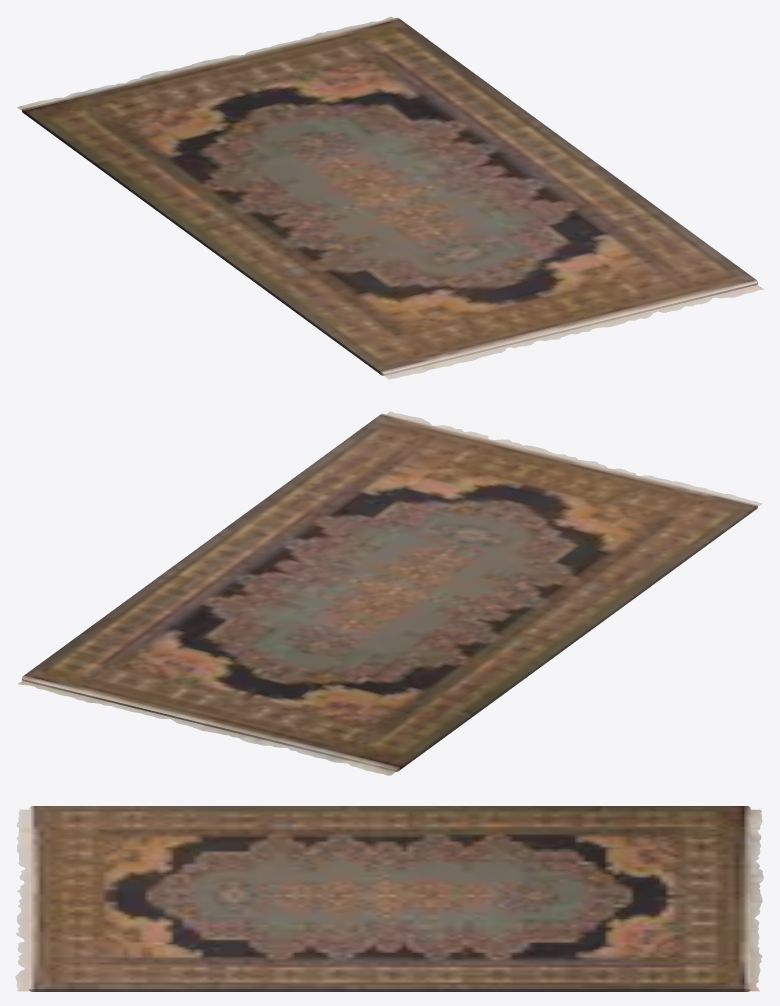
Rendered from rug1.glb.
The picture shows the model from 3 angles, top to bottom: view 1: azimuth 30°, elevation 25°; view 2: azimuth 150°, elevation 25°; view 3: azimuth 270°, elevation 25°; orthographic projection.
Visible parts, largest first — view 1: rug01_MDL_nar_blinn2_0; view 2: rug01_MDL_nar_blinn2_0; view 3: rug01_MDL_nar_blinn2_0.
Boxes of the visible parts, x1,y1,x2,y2 form: rug01_MDL_nar_blinn2_0: [17, 16, 764, 379]; rug01_MDL_nar_blinn2_0: [17, 411, 762, 775]; rug01_MDL_nar_blinn2_0: [15, 806, 763, 991].
Size of the model in its own units: 300 by 2.16 by 521.
Materials: 1 (1 with a texture image).
